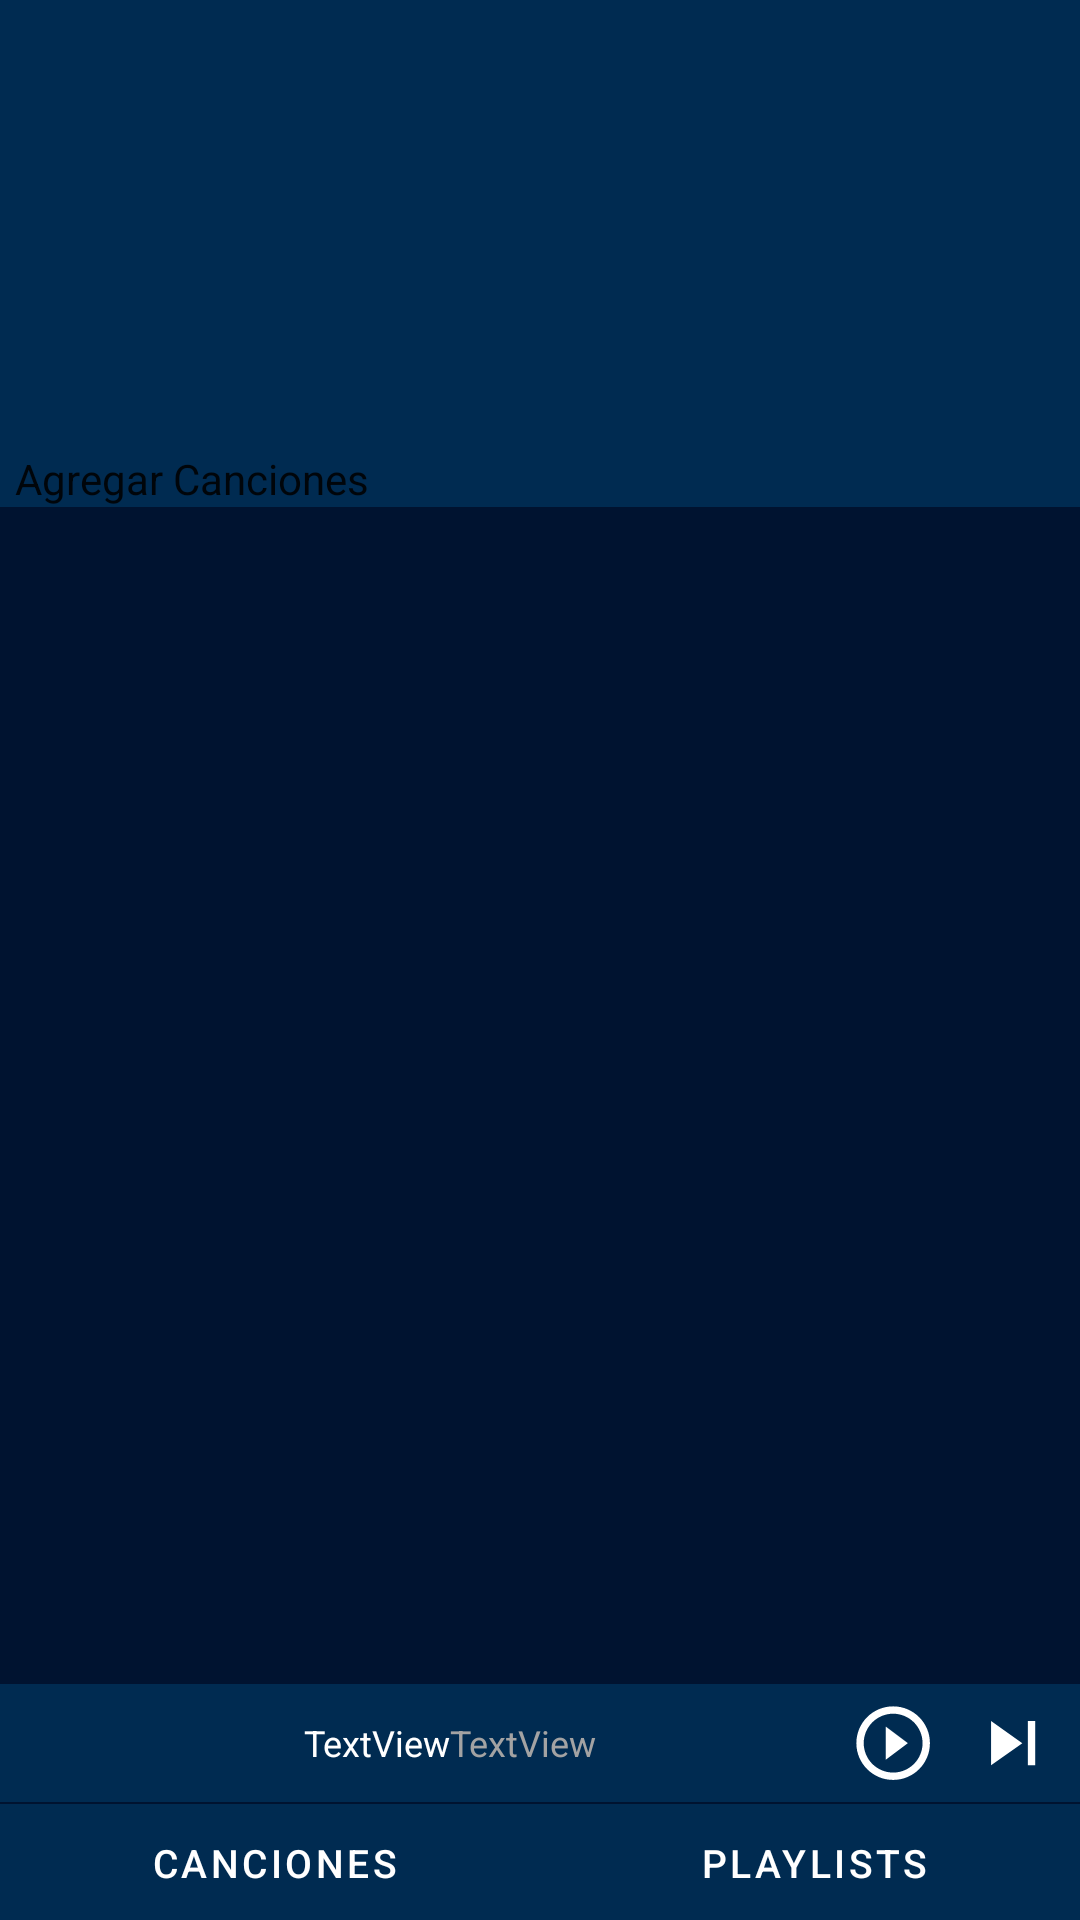

Named icons in this screenshot (1080×1920) and their centers, point (x, y):
play circle: point (893, 1743)
skip next: point (1013, 1743)
